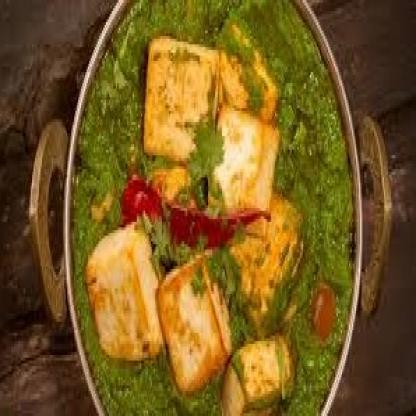palak_paneer: (71, 0, 353, 416)
